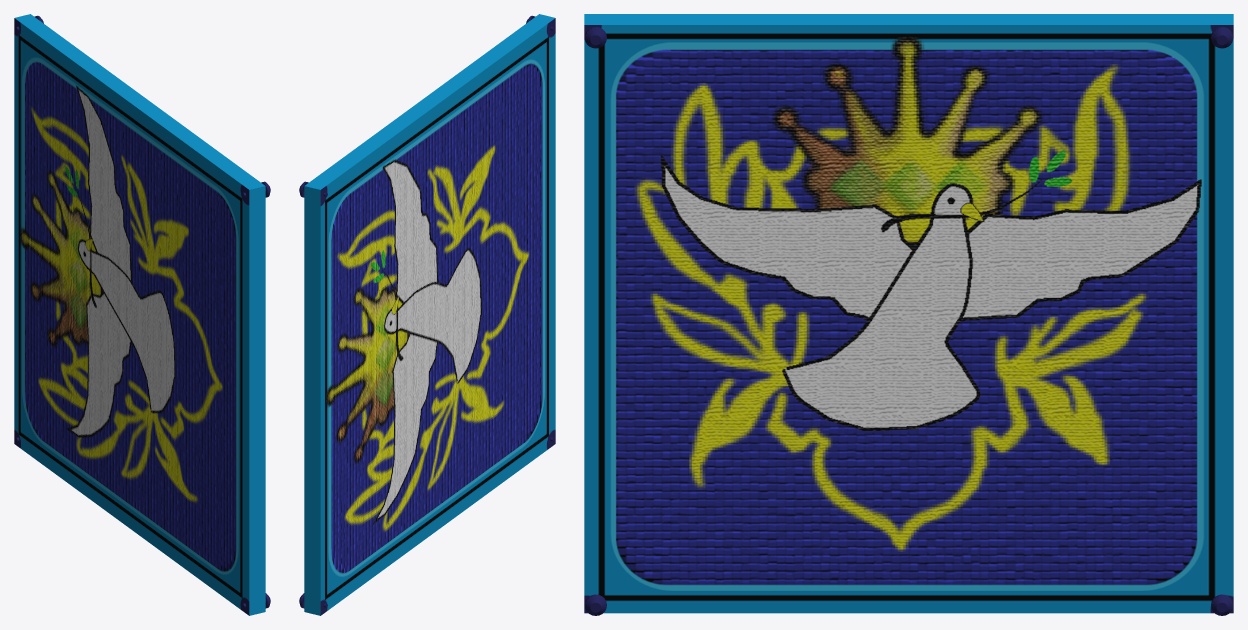
File: SM_banner_dove.fbx
3 renders of one model, left to right at view 1: azimuth 30°, elevation 25°; view 2: azimuth 150°, elevation 25°; view 3: azimuth 270°, elevation 25°, orthographic. The views are drawn at different scales.
Parts seen in each view (by area): view 1: SM_banner_dove; view 2: SM_banner_dove; view 3: SM_banner_dove.
Part boxes in pixels (x1=…): SM_banner_dove: x1=14, y1=14, x2=270, y2=615; SM_banner_dove: x1=299, y1=14, x2=555, y2=615; SM_banner_dove: x1=584, y1=14, x2=1233, y2=615.
Bounding box in the file's own units: 31.29 × 500 × 500.
